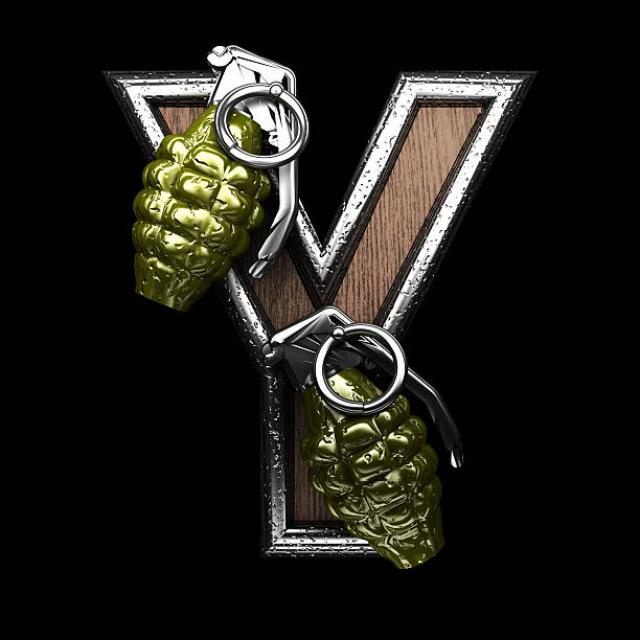grenade: (259, 304, 475, 571), (121, 38, 311, 319)
